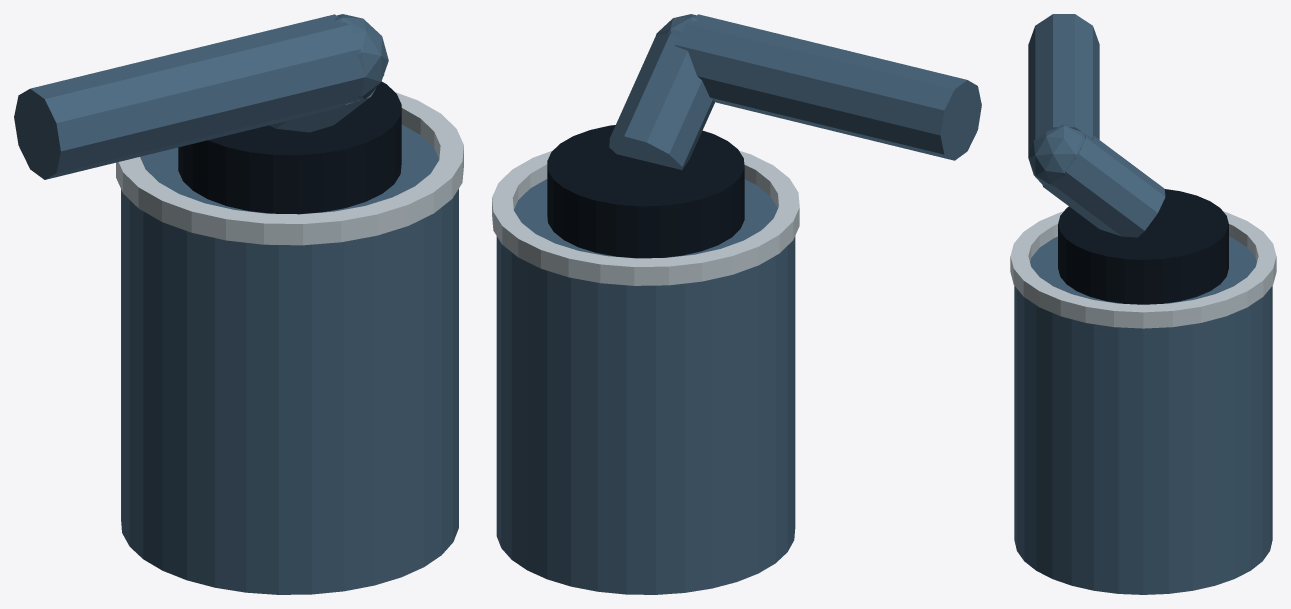
The model's file is 58_L78_TurbomolecularVacuumPump.fbx.
3 renders of one model, left to right at view 1: azimuth 30°, elevation 25°; view 2: azimuth 150°, elevation 25°; view 3: azimuth 270°, elevation 25°, orthographic. The views are drawn at different scales.
Visible parts, largest first — view 1: TurbomolecularVacuumPump; view 2: TurbomolecularVacuumPump; view 3: TurbomolecularVacuumPump.
Boxes of the visible parts, bbox=[...] form: TurbomolecularVacuumPump: bbox=[14, 14, 463, 594]; TurbomolecularVacuumPump: bbox=[492, 14, 981, 594]; TurbomolecularVacuumPump: bbox=[1010, 14, 1276, 594].
Size of the model in its own units: 202 by 230 by 134.
